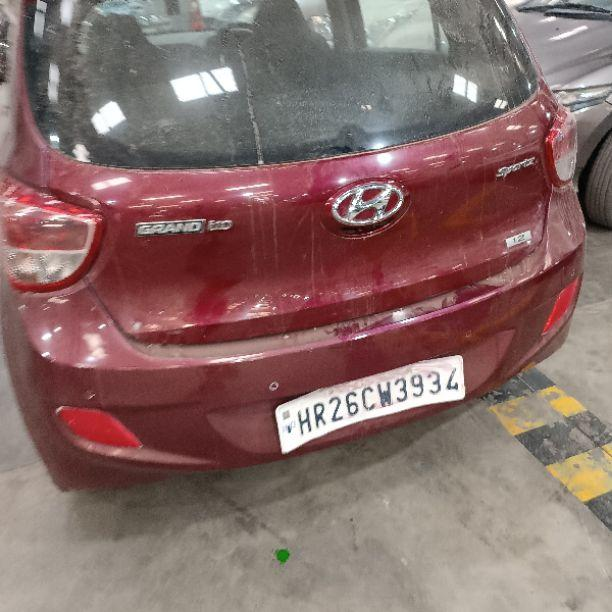license_plate: (272, 353, 466, 456)
